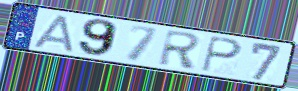7: (248, 40, 284, 83), (125, 24, 159, 63)
9: (78, 18, 122, 60)
A: (31, 13, 75, 54)
P: (200, 35, 244, 73)
R: (156, 28, 203, 71)
